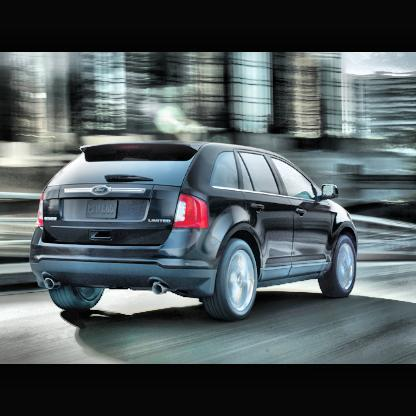Ford Edge SUV 2012: (31, 141, 358, 321)
